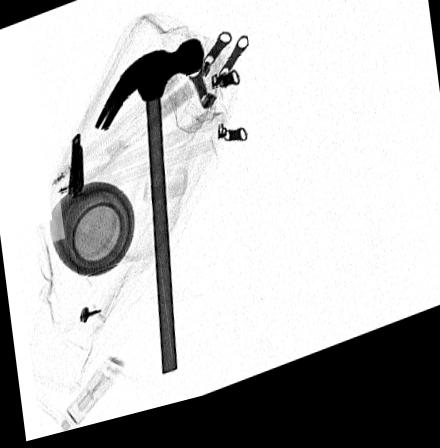Hammer: (91, 48, 204, 383)
